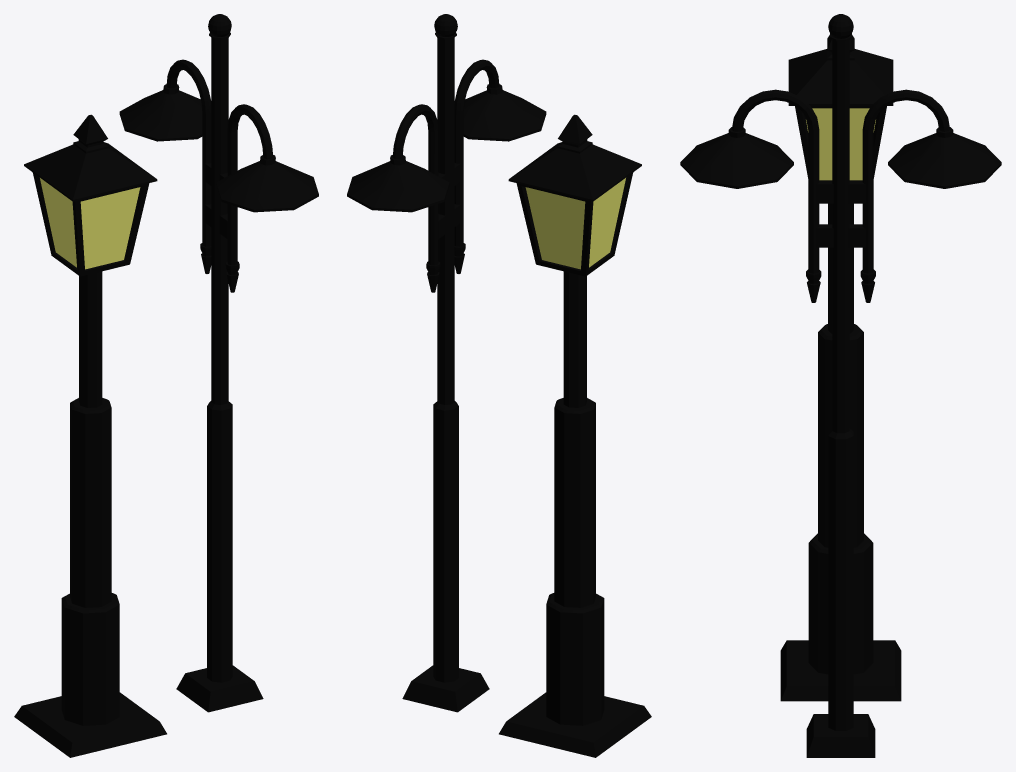
Rendered from Lights.fbx.
3 renders of one model, left to right at view 1: azimuth 30°, elevation 25°; view 2: azimuth 150°, elevation 25°; view 3: azimuth 270°, elevation 25°, orthographic. The views are drawn at different scales.
Visible parts, largest first — view 1: Light_1, Light_2; view 2: Light_1, Light_2; view 3: Light_2, Light_1.
Part boxes in pixels (bbox=[...]): Light_1: bbox=[14, 114, 166, 757]; Light_2: bbox=[119, 14, 318, 712]; Light_1: bbox=[499, 114, 651, 757]; Light_2: bbox=[347, 14, 546, 712]; Light_2: bbox=[680, 14, 1001, 757]; Light_1: bbox=[780, 35, 901, 701].
Bounding box in the file's own units: 98.47 × 286 × 115.
